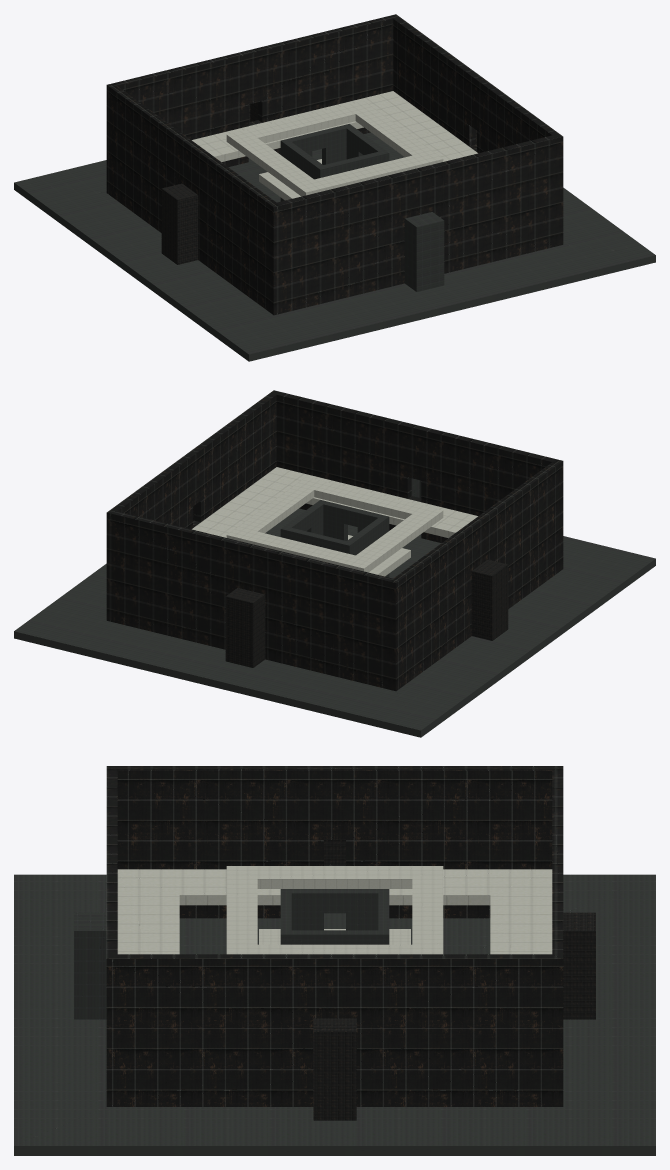
The model's file is Level2.FBX.
The picture shows the model from 3 angles, top to bottom: view 1: azimuth 30°, elevation 25°; view 2: azimuth 150°, elevation 25°; view 3: azimuth 270°, elevation 25°; orthographic projection. The views are drawn at different scales.
Visible parts, largest first — view 1: Obj_000005, Obj_000006, Obj_000008, Obj_000007, Obj_000010, Obj_000003, Obj_000002, Obj_000011; view 2: Obj_000005, Obj_000006, Obj_000008, Obj_000007, Obj_000010, Obj_000004, Obj_000002, Obj_000011; view 3: Obj_000005, Obj_000006, Obj_000007, Obj_000008, Obj_000010, Obj_000001, Obj_000004, Obj_000003, Obj_000011, Obj_000002.
Part boxes in pixels (<box>): Obj_000005: <box>106,14,563,315</box>; Obj_000006: <box>14,132,655,361</box>; Obj_000008: <box>226,101,443,196</box>; Obj_000007: <box>192,91,477,162</box>; Obj_000010: <box>280,124,389,201</box>; Obj_000003: <box>404,212,444,291</box>; Obj_000002: <box>161,183,198,264</box>; Obj_000011: <box>259,159,321,200</box>; Obj_000005: <box>106,390,563,691</box>; Obj_000006: <box>14,508,655,737</box>; Obj_000008: <box>226,477,443,572</box>; Obj_000007: <box>192,467,477,538</box>; Obj_000010: <box>280,500,389,577</box>; Obj_000004: <box>225,588,265,667</box>; Obj_000002: <box>471,559,508,640</box>; Obj_000011: <box>348,535,410,576</box>; Obj_000005: <box>106,766,563,1106</box>; Obj_000006: <box>14,874,655,1155</box>; Obj_000007: <box>117,869,552,954</box>; Obj_000008: <box>226,866,443,954</box>; Obj_000010: <box>280,889,389,944</box>; Obj_000001: <box>313,1018,356,1120</box>; Obj_000004: <box>563,912,595,1019</box>; Obj_000003: <box>74,912,106,1019</box>; Obj_000011: <box>259,929,410,944</box>; Obj_000002: <box>324,839,345,864</box>.
Size of the model in its own units: 1500 by 406 by 1500.
Materials: 5 (5 with a texture image).
